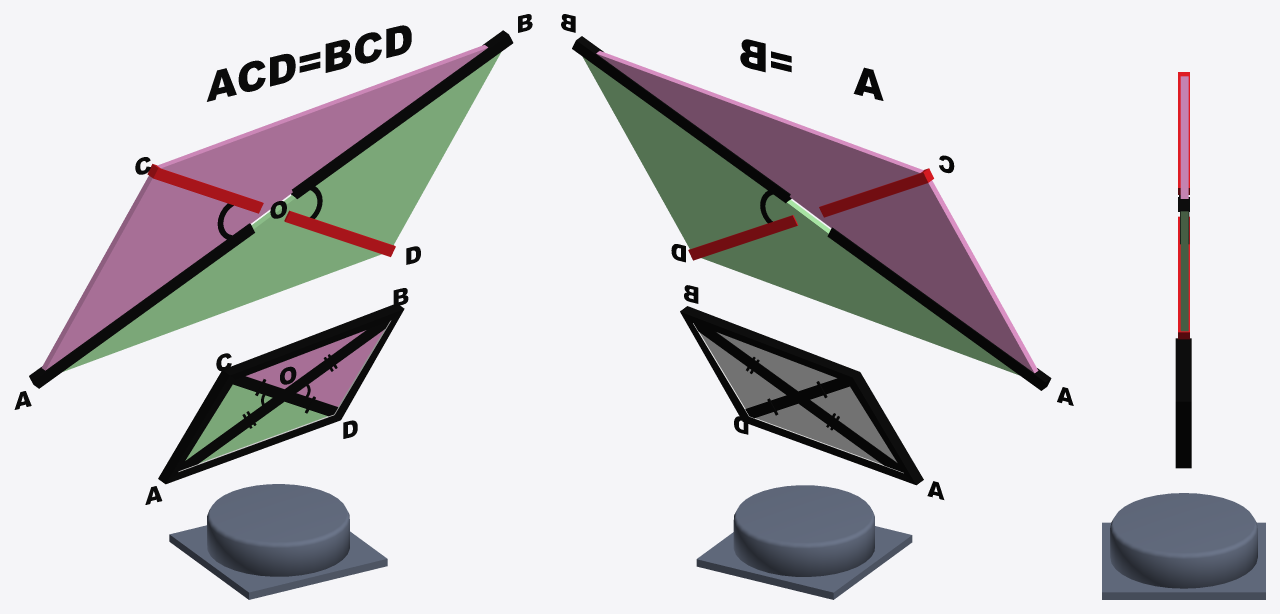
The picture shows the model from 3 angles, left to right: view 1: azimuth 30°, elevation 25°; view 2: azimuth 150°, elevation 25°; view 3: azimuth 270°, elevation 25°; orthographic projection. The views are drawn at different scales.
Visible parts, largest first — view 1: Cube.015, Cube.014, Cube, Cube.001, Text.010, Cube.013, Cube.012, Cube.003, Cube.010, Cube.011, Cube.002; view 2: Cube.015, Cube.014, Cube, Cube.001, Cube.013, Cube.012, Cube.003, Cube.010, Text.010, Cube.011, Cube.002; view 3: Cube, Cube.001, Cube.015, Cube.014, Cube.010, Cube.011.
Boxes of the visible parts, left/top/right/bottom form: Cube.015: left=41, top=45, right=487, bottom=370; Cube.014: left=63, top=52, right=501, bottom=371; Cube: left=169, top=484, right=387, bottom=599; Cube.001: left=158, top=304, right=404, bottom=484; Text.010: left=207, top=25, right=411, bottom=101; Cube.013: left=291, top=30, right=513, bottom=198; Cube.012: left=29, top=223, right=254, bottom=388; Cube.003: left=179, top=321, right=389, bottom=470; Cube.010: left=147, top=164, right=263, bottom=213; Cube.011: left=284, top=210, right=395, bottom=256; Cube.002: left=233, top=376, right=337, bottom=416; Cube.015: left=596, top=51, right=1038, bottom=373; Cube.014: left=583, top=57, right=1019, bottom=375; Cube: left=696, top=485, right=912, bottom=599; Cube.001: left=680, top=306, right=923, bottom=485; Cube.013: left=572, top=36, right=791, bottom=203; Cube.012: left=827, top=227, right=1051, bottom=390; Cube.003: left=694, top=323, right=903, bottom=472; Cube.010: left=819, top=168, right=933, bottom=217; Text.010: left=740, top=39, right=883, bottom=100; Cube.011: left=688, top=215, right=797, bottom=260; Cube.002: left=745, top=378, right=849, bottom=418; Cube: left=1102, top=493, right=1265, bottom=599; Cube.001: left=1175, top=338, right=1191, bottom=468; Cube.015: left=1180, top=76, right=1188, bottom=198; Cube.014: left=1180, top=211, right=1188, bottom=331; Cube.010: left=1178, top=72, right=1189, bottom=194; Cube.011: left=1178, top=216, right=1189, bottom=339.
Bounding box in the file's own units: 34.18 × 31.71 × 9.09.
